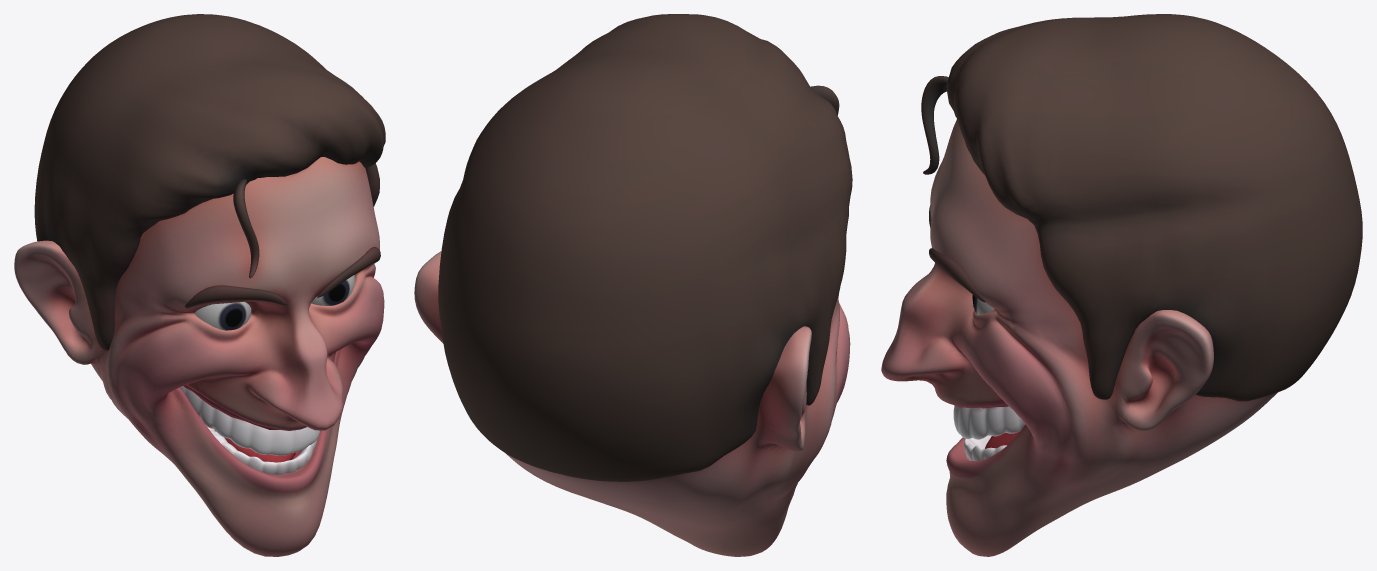
File: when_the_imposter_is_sus.glb
3 views of the same model, side by side, from view 1: azimuth 30°, elevation 25°; view 2: azimuth 150°, elevation 25°; view 3: azimuth 270°, elevation 25° (orthographic). The views are drawn at different scales.
Visible parts, largest first — view 1: Head, Eyes; view 2: Head; view 3: Head.
Part boxes in pixels (x1,y1,x2,y2): Head: [14, 14, 385, 556]; Eyes: [195, 275, 354, 330]; Head: [414, 14, 852, 556]; Head: [881, 14, 1362, 556].
Bounding box in the file's own units: 1.84 × 2.47 × 2.07.
2 materials, 2 textured.
